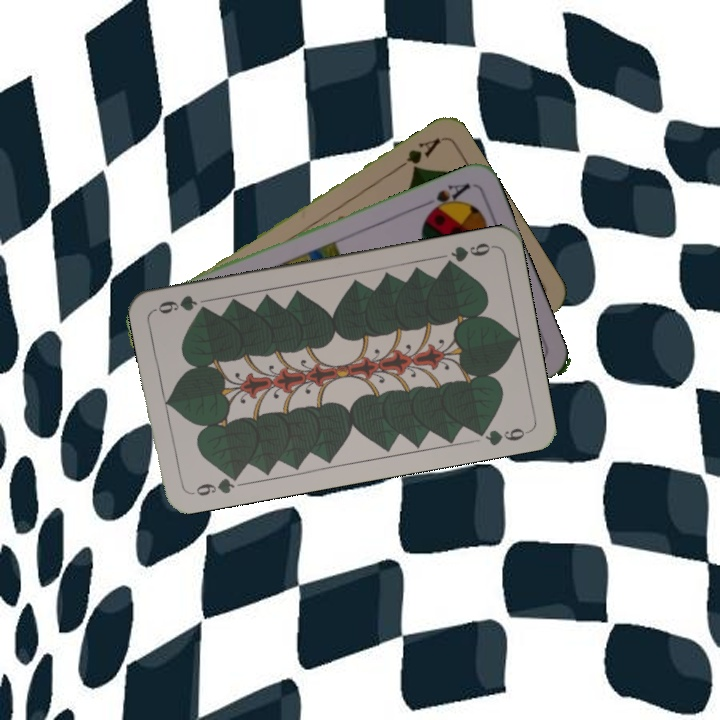G9: (440, 238, 496, 270), (186, 469, 243, 499)
GA: (391, 133, 443, 174)
SA: (417, 179, 473, 218)
